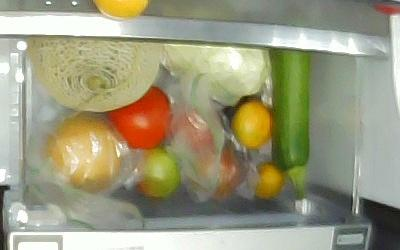cabbage: (159, 41, 272, 102)
melon: (29, 35, 162, 113)
pear_vinyl: (42, 119, 122, 192)
prune_vinyl: (173, 106, 216, 156)
tangerine: (232, 101, 272, 150), (252, 161, 283, 202)
tomato: (110, 84, 171, 147)
tomato_vinyl: (188, 148, 242, 199), (135, 151, 181, 197)
zucchini: (269, 48, 310, 203)
